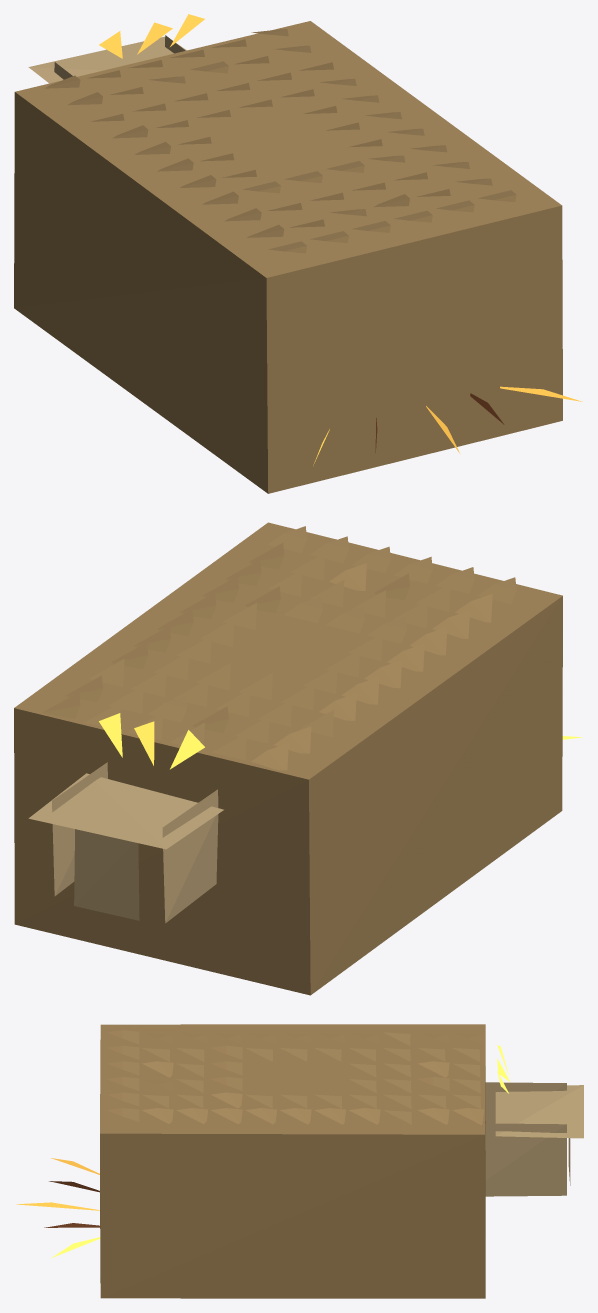
File: body_lod2.glb
The picture shows the model from 3 angles, top to bottom: view 1: azimuth 30°, elevation 25°; view 2: azimuth 150°, elevation 25°; view 3: azimuth 270°, elevation 25°; orthographic projection. The views are drawn at different scales.
Visible parts, largest first — view 1: phoenix_body_LOD2; view 2: phoenix_body_LOD2; view 3: phoenix_body_LOD2.
Boxes of the visible parts, left/top/right/bottom form: phoenix_body_LOD2: left=14, top=14, right=582, bottom=493; phoenix_body_LOD2: left=14, top=522, right=582, bottom=995; phoenix_body_LOD2: left=16, top=1024, right=583, bottom=1298.
Size of the model in its own units: 3.33 by 2.62 by 7.27.
